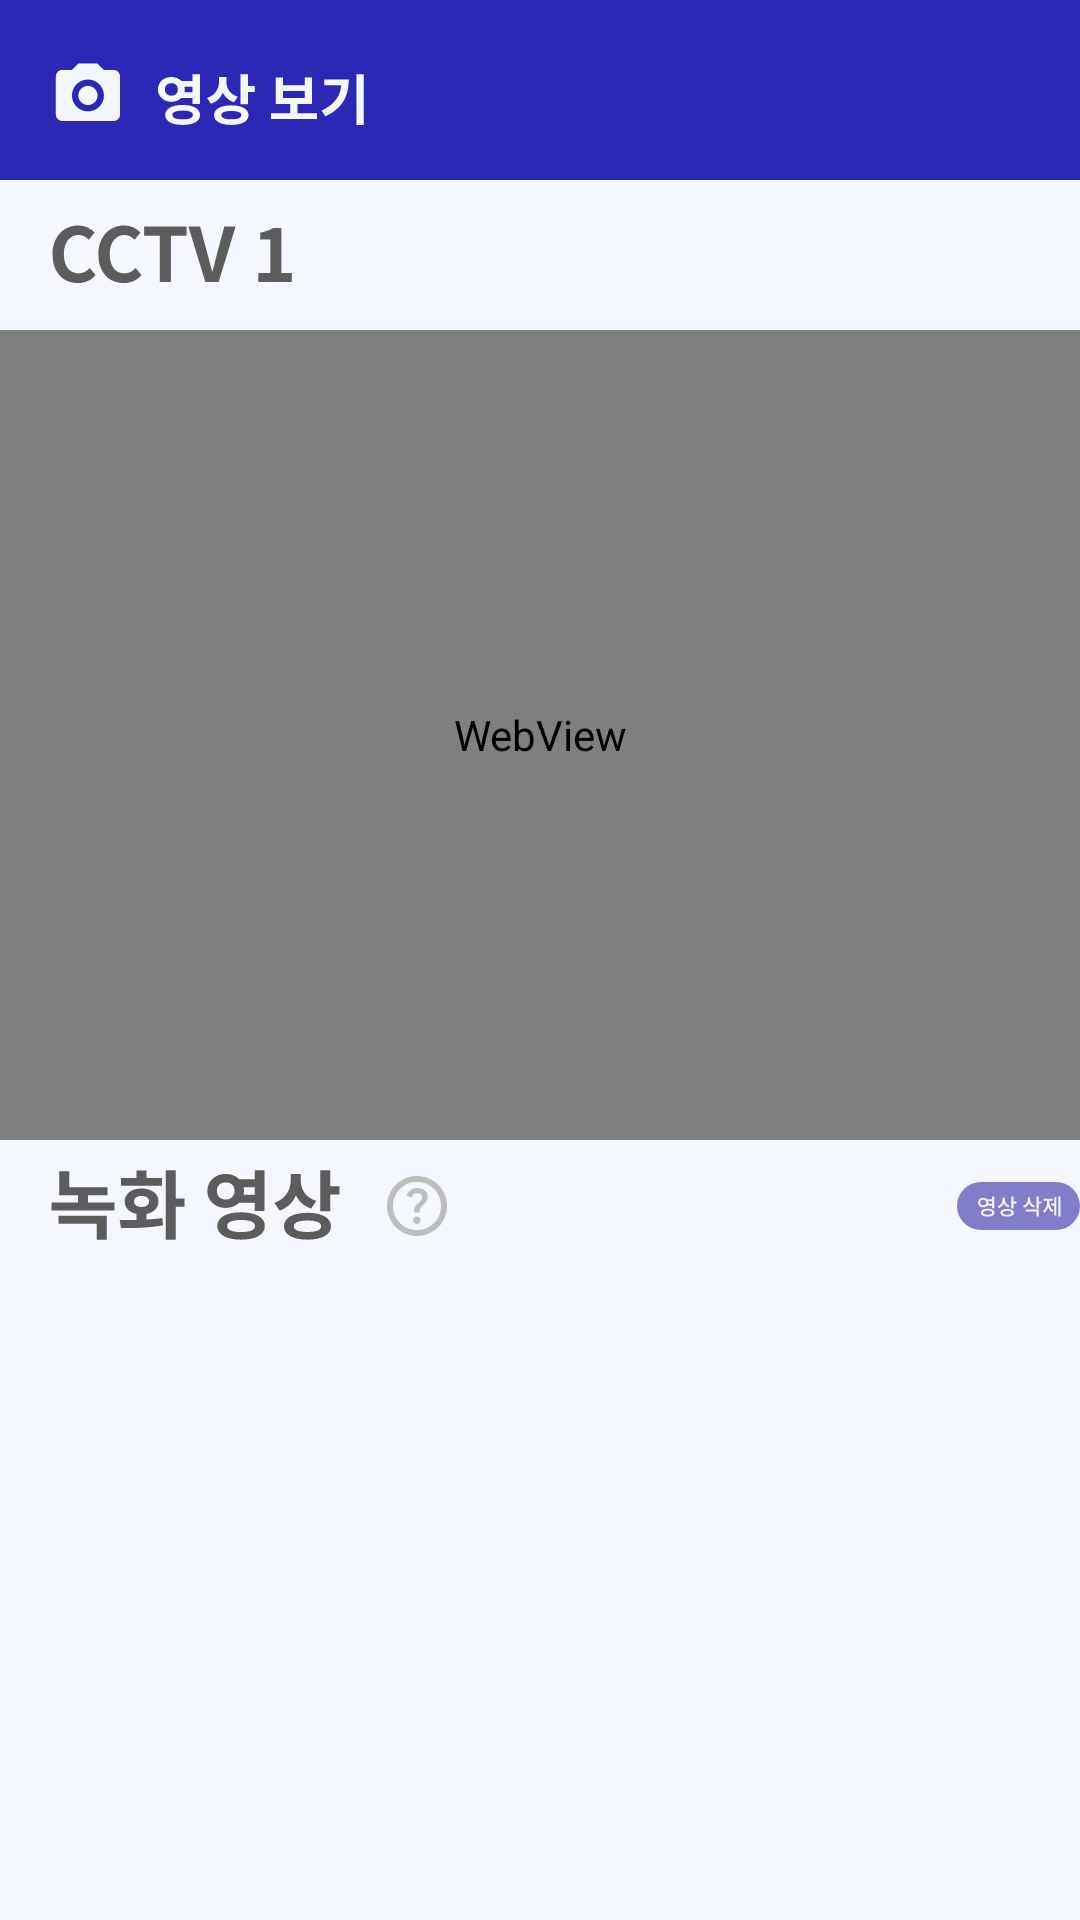

Icon click points for this 1080px×1920px phone screenshot, format (x=x, y=y):
question: (x=417, y=1206)
